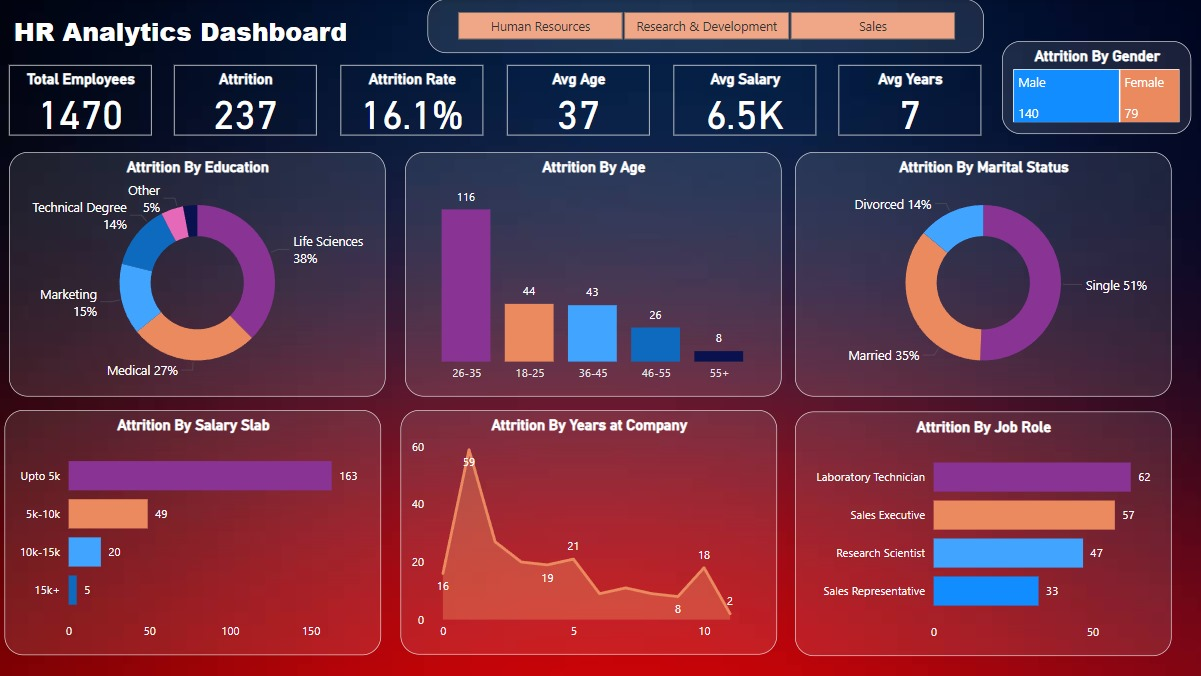

The dashboard page shown, as its layout file describes it:
{"tool":"powerbi","page":{"name":"Page 1","canvas":[1280,720],"ordinal":0},"visuals":[{"type":"card","title":"Total Employees","fields":{"Values":["CountNonNull(HR_Analytics.EmpID)"]},"box":[12.7,70,151.1,74.8],"z":0},{"type":"card","title":"Attrition","fields":{"Values":["Sum(HR_Analytics.AttritionCount)"]},"box":[188.3,69.5,151.1,74.8],"z":1000},{"type":"card","title":"Attrition Rate","fields":{"Values":["HR_Analytics.Attrition Rate"]},"box":[364.4,69.5,151.1,74.8],"z":2000},{"type":"card","title":"Avg Age","fields":{"Values":["Avg(HR_Analytics.Age)"]},"box":[540.5,69.5,151.1,74.8],"z":3000},{"type":"card","title":"Avg Salary","fields":{"Values":["Avg(HR_Analytics.MonthlyIncome)"]},"box":[716.6,69.5,151.1,74.8],"z":4000},{"type":"card","title":"Avg Years","fields":{"Values":["Avg(HR_Analytics.YearsAtCompany)"]},"box":[892.8,69.5,151.1,74.8],"z":5000},{"type":"donutChart","title":"Attrition By Education","fields":{"Y":["Sum(HR_Analytics.AttritionCount)"],"Category":["HR_Analytics.EducationField"]},"box":[8,162.2,399.2,259.3],"z":6000},{"type":"columnChart","title":"Attrition By Age","fields":{"Category":["HR_Analytics.AgeGroup"],"Y":["Sum(HR_Analytics.AttritionCount)"]},"box":[427.1,162.8,399.2,259.3],"z":7000},{"type":"clusteredBarChart","title":"Attrition By Salary Slab","fields":{"Category":["HR_Analytics.SalarySlab"],"Y":["Sum(HR_Analytics.AttritionCount)"]},"box":[8,435.8,399.2,260],"z":9000},{"type":"areaChart","title":"Attrition By Years at Company","fields":{"Category":["HR_Analytics.YearsAtCompany"],"Y":["Sum(HR_Analytics.AttritionCount)"]},"box":[427.1,435.8,399.2,259.3],"z":10000},{"type":"clusteredBarChart","title":"Attrition By Job Role","fields":{"Y":["Sum(HR_Analytics.AttritionCount)"],"Category":["HR_Analytics.JobRole"]},"box":[846.2,437.4,399.2,259.3],"z":11000},{"type":"treemap","title":"Attrition By Gender","fields":{"Group":["HR_Analytics.Gender"],"Values":["Sum(HR_Analytics.AttritionCount)"]},"box":[1065.7,44.5,200.4,98.6],"z":12000},{"type":"slicer","fields":{"Values":["HR_Analytics.Department"]},"box":[456.5,0,590.1,57.3],"z":13000},{"type":"textbox","box":[12.7,9.5,415.1,47.7],"z":14000},{"type":"donutChart","title":"Attrition By Marital Status","fields":{"Y":["Sum(HR_Analytics.AttritionCount)"],"Category":["HR_Analytics.MaritalStatus"]},"box":[846.2,162.2,399.2,259.3],"z":14001}]}

Visuals, with their boxes in screenshot pixels (x1, y1, x2, y2), scaled from the page's 1280x720 canvas onto the 1201x676 screenshot:
"Total Employees" card: left=12, top=66, right=154, bottom=136
"Attrition" card: left=177, top=65, right=318, bottom=135
"Attrition Rate" card: left=342, top=65, right=484, bottom=135
"Avg Age" card: left=507, top=65, right=649, bottom=135
"Avg Salary" card: left=672, top=65, right=814, bottom=135
"Avg Years" card: left=838, top=65, right=979, bottom=135
"Attrition By Education" donutChart: left=8, top=152, right=382, bottom=396
"Attrition By Age" columnChart: left=401, top=153, right=775, bottom=396
"Attrition By Salary Slab" clusteredBarChart: left=8, top=409, right=382, bottom=653
"Attrition By Years at Company" areaChart: left=401, top=409, right=775, bottom=653
"Attrition By Job Role" clusteredBarChart: left=794, top=411, right=1169, bottom=654
"Attrition By Gender" treemap: left=1000, top=42, right=1188, bottom=134
slicer - HR_Analytics.Department: left=428, top=0, right=982, bottom=54
textbox: left=12, top=9, right=401, bottom=54
"Attrition By Marital Status" donutChart: left=794, top=152, right=1169, bottom=396
